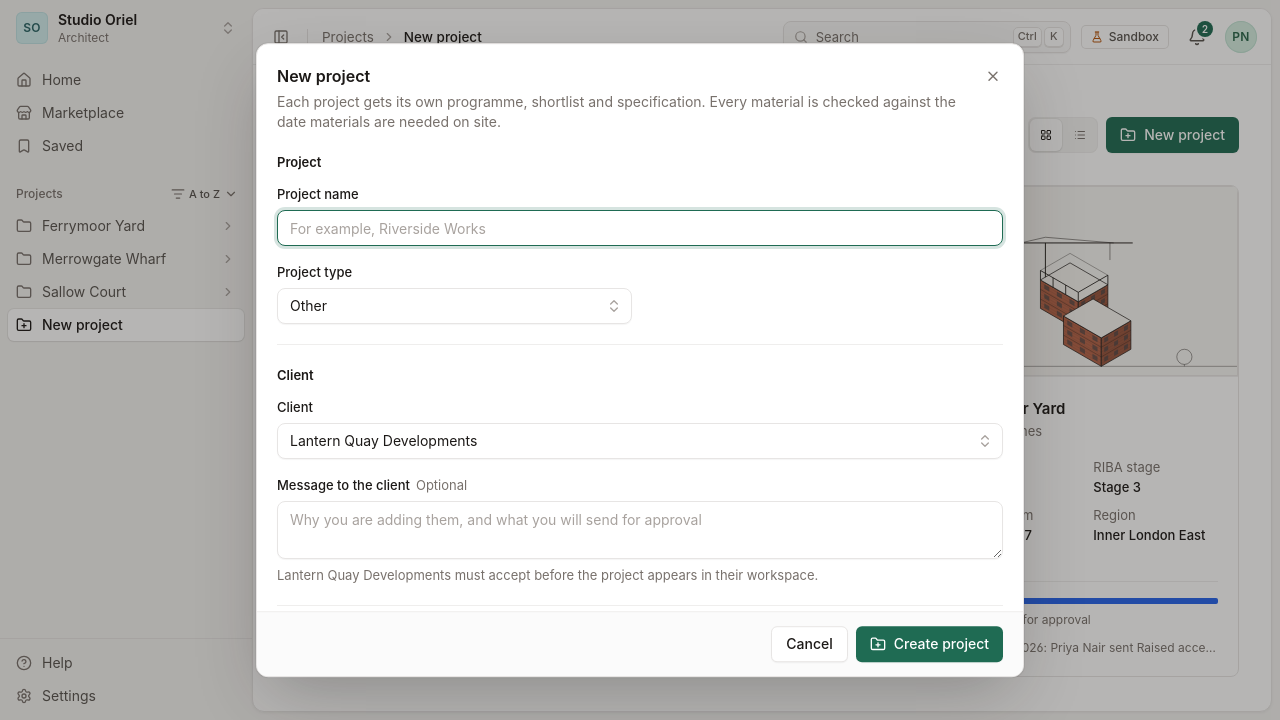
Test: the new project dialog › offers Other with a description, local authorities by region and the requirements to pick
The image size is (1280, 720).
Select "Other" in the dropdown labelled "Project type" at (454, 306), box left=277, top=288, right=632, bottom=324
(page scrolled)
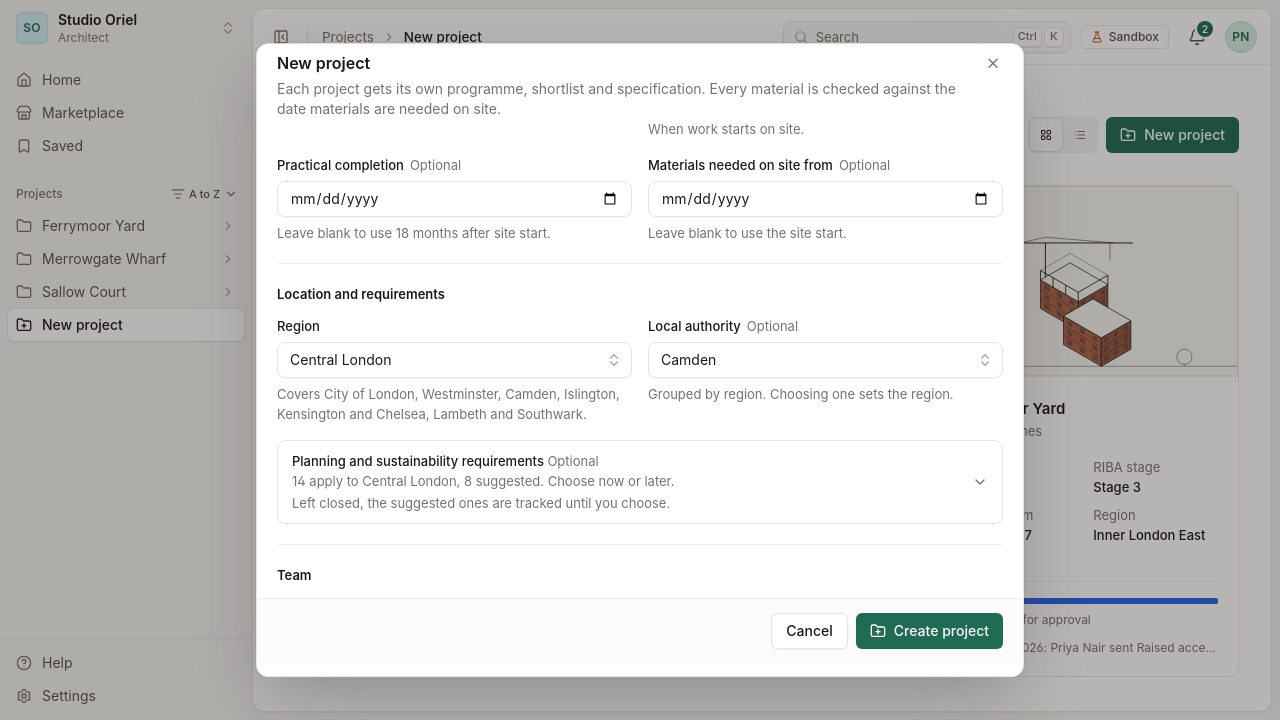
Select "Camden" in the 2nd dropdown at (826, 360), box left=648, top=342, right=1003, bottom=378
(page scrolled)
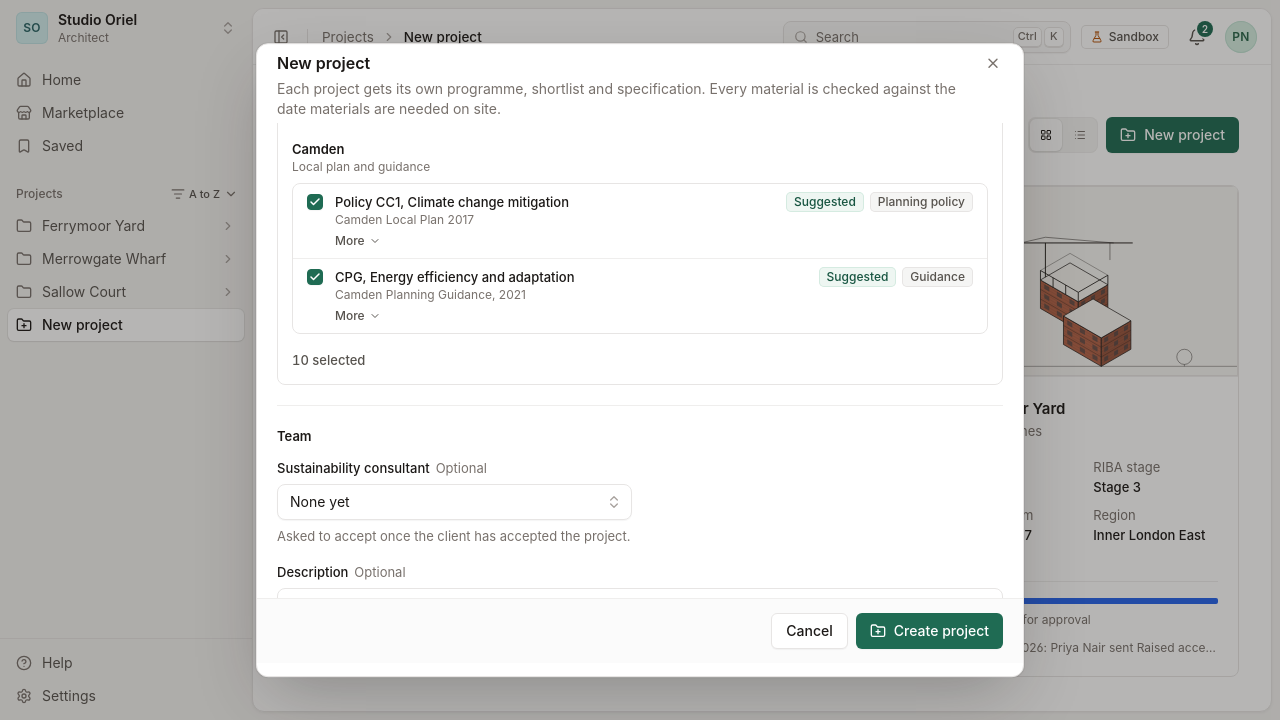
Expected: the text "10 selected" is shown, left=292, top=352, right=365, bottom=368
